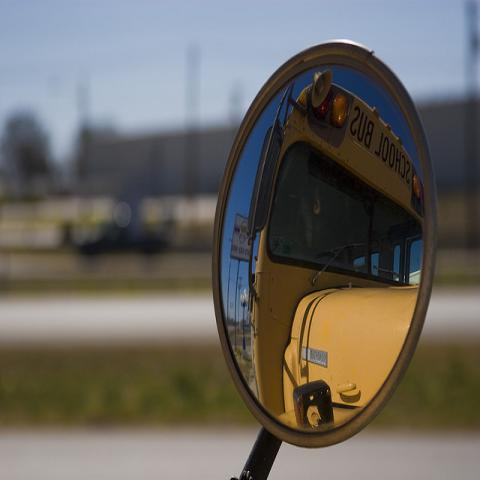bus: (248, 71, 425, 434)
car: (81, 226, 170, 256)
